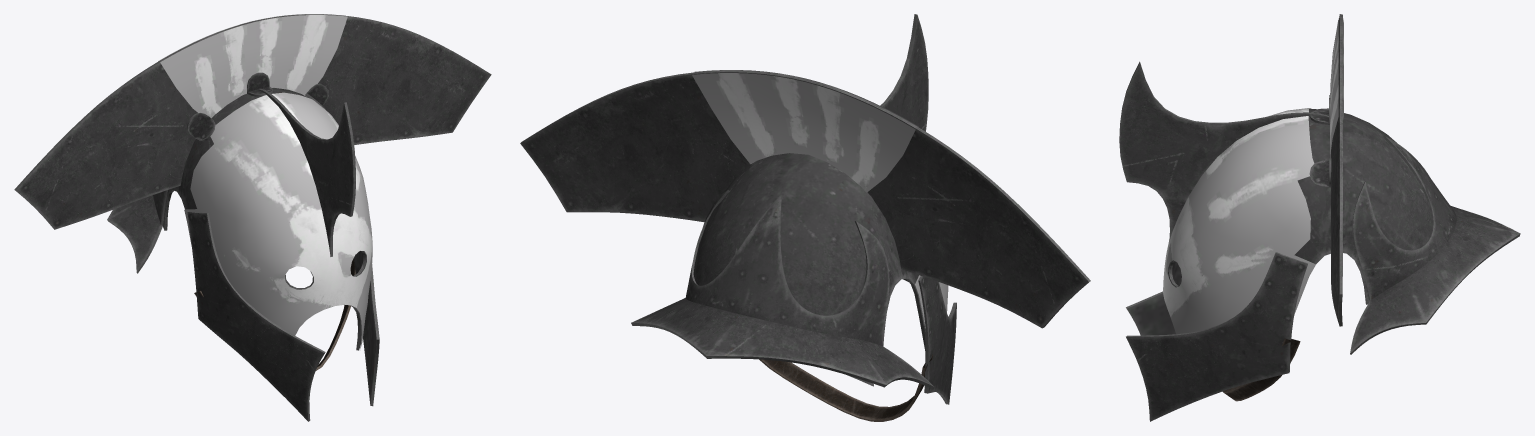
Rendered from sk_uruk_hai_helmet_command_a2.fbx.
3 renders of one model, left to right at view 1: azimuth 30°, elevation 25°; view 2: azimuth 150°, elevation 25°; view 3: azimuth 270°, elevation 25°, orthographic. The views are drawn at different scales.
Visible parts, largest first — view 1: sk_uruk_hai_helmet_command_a2.0, sk_uruk_hai_helmet_command_a2.1, sk_uruk_hai_helmet_command_a2.2; view 2: sk_uruk_hai_helmet_command_a2.0, sk_uruk_hai_helmet_command_a2.1, sk_uruk_hai_helmet_command_a2.2; view 3: sk_uruk_hai_helmet_command_a2.0, sk_uruk_hai_helmet_command_a2.1, sk_uruk_hai_helmet_command_a2.2.
Boxes of the visible parts, box(x1,y1,x2,y2) form: sk_uruk_hai_helmet_command_a2.0: box(14, 14, 491, 421); sk_uruk_hai_helmet_command_a2.1: box(158, 14, 372, 348); sk_uruk_hai_helmet_command_a2.2: box(194, 258, 355, 370); sk_uruk_hai_helmet_command_a2.0: box(520, 14, 1090, 404); sk_uruk_hai_helmet_command_a2.1: box(692, 70, 948, 328); sk_uruk_hai_helmet_command_a2.2: box(759, 354, 932, 421); sk_uruk_hai_helmet_command_a2.0: box(1119, 14, 1520, 421); sk_uruk_hai_helmet_command_a2.1: box(1163, 18, 1343, 334); sk_uruk_hai_helmet_command_a2.2: box(1222, 338, 1300, 401).
Bounding box in the file's own units: 0.5669 × 0.3803 × 0.3734.
Materials: 3 (3 with a texture image).
